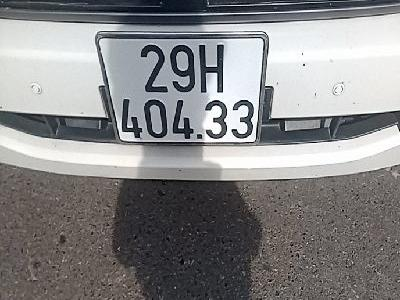number: (95, 32, 264, 143)
